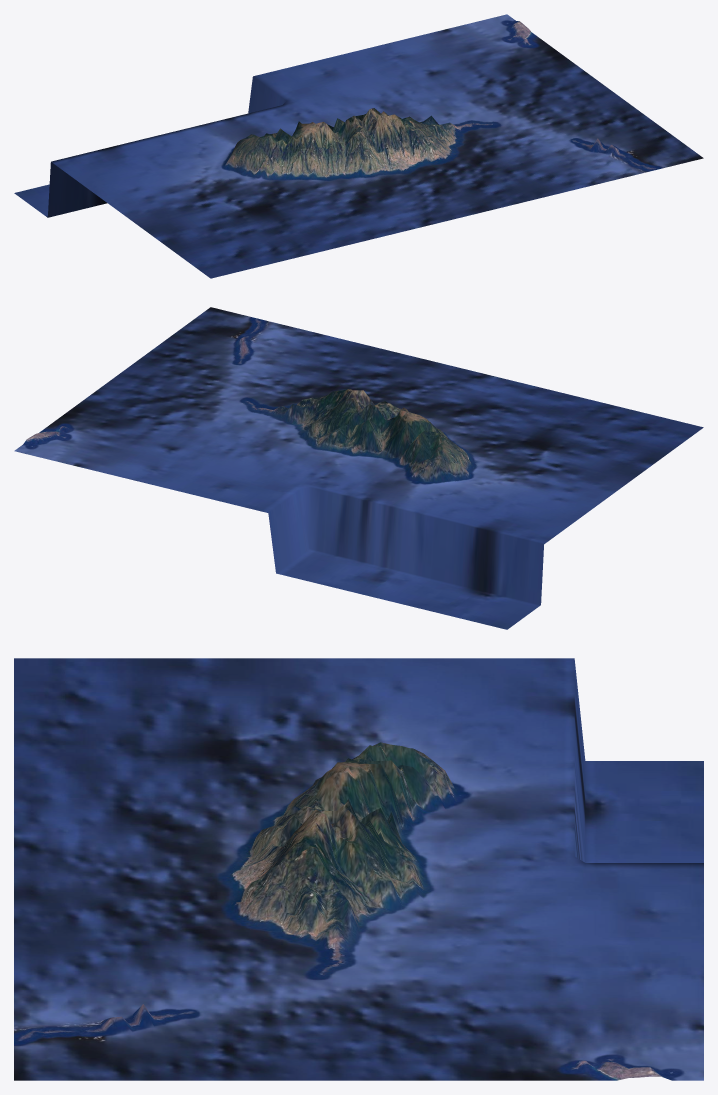
Rendered from Madeira2.fbx.
The picture shows the model from 3 angles, top to bottom: view 1: azimuth 30°, elevation 25°; view 2: azimuth 150°, elevation 25°; view 3: azimuth 270°, elevation 25°; orthographic projection. The views are drawn at different scales.
Visible parts, largest first — view 1: EXPORT_GOOGLE_SAT_WM; view 2: EXPORT_GOOGLE_SAT_WM; view 3: EXPORT_GOOGLE_SAT_WM.
Part boxes in pixels (x1,y1,x2,y2): EXPORT_GOOGLE_SAT_WM: [14, 14, 703, 278]; EXPORT_GOOGLE_SAT_WM: [14, 307, 703, 629]; EXPORT_GOOGLE_SAT_WM: [14, 658, 703, 1080].
Size of the model in its own units: 3101 by 581 by 2143.
